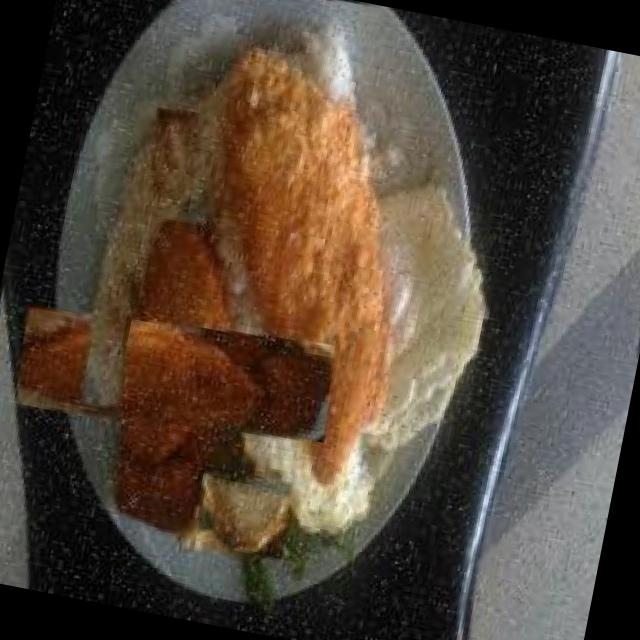fried_chicken: (153, 34, 454, 506)
fried_dumplings: (189, 466, 298, 568)
rice: (62, 140, 170, 410), (136, 103, 228, 229)
triangle_hash_brown: (48, 247, 304, 502)
